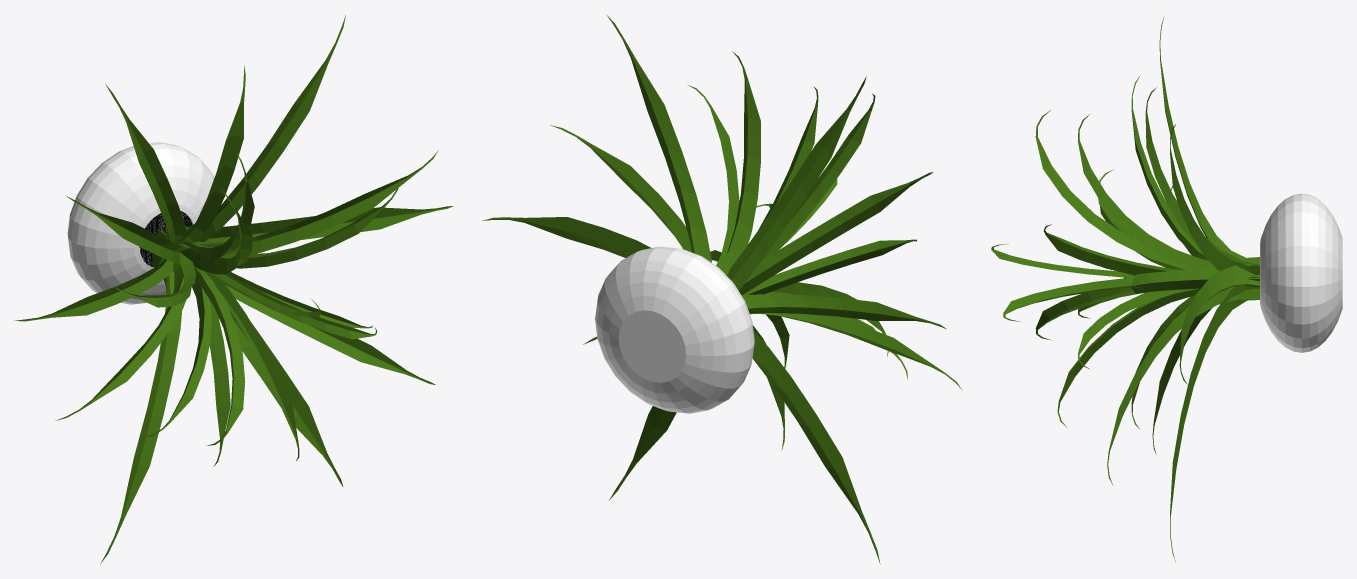
3 renders of one model, left to right at view 1: azimuth 30°, elevation 25°; view 2: azimuth 150°, elevation 25°; view 3: azimuth 270°, elevation 25°, orthographic. The views are drawn at different scales.
Parts seen in each view (by area): view 1: brass pot with plant; view 2: brass pot with plant; view 3: brass pot with plant.
Part boxes in pixels (x1,y1,x2,y2): brass pot with plant: [14, 15, 453, 564]; brass pot with plant: [482, 15, 962, 563]; brass pot with plant: [991, 16, 1342, 562].
Bounding box in the file's own units: 52.62 × 54.18 × 38.32.
